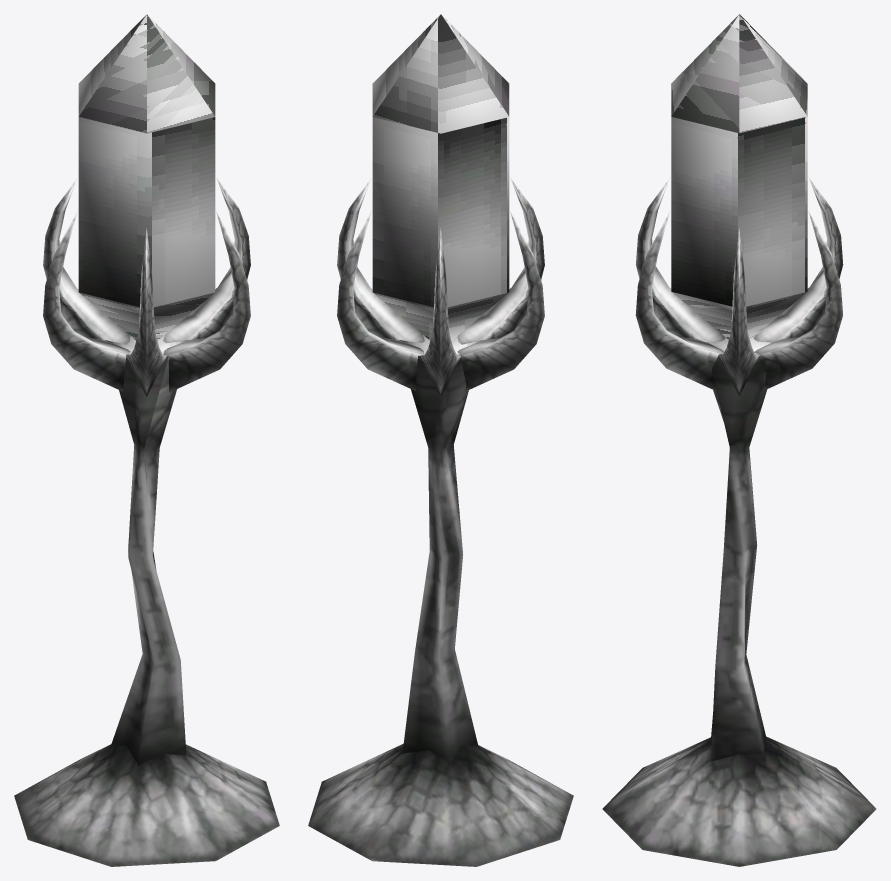
File: INST_TROLLHOLE_CRYSTALHOLDER.fbx
3 views of the same model, side by side, from view 1: azimuth 30°, elevation 25°; view 2: azimuth 150°, elevation 25°; view 3: azimuth 270°, elevation 25° (orthographic).
Parts seen in each view (by area): view 1: INST_TROLLHOLE_CRYSTALHOLDER; view 2: INST_TROLLHOLE_CRYSTALHOLDER; view 3: INST_TROLLHOLE_CRYSTALHOLDER.
Part boxes in pixels (box(x1,y1,x2,y2)): INST_TROLLHOLE_CRYSTALHOLDER: box(14, 14, 279, 866); INST_TROLLHOLE_CRYSTALHOLDER: box(308, 14, 573, 866); INST_TROLLHOLE_CRYSTALHOLDER: box(602, 14, 876, 866).
Bounding box in the file's own units: 4452 × 14222 × 4452.
Materials: 2 (2 with a texture image).
